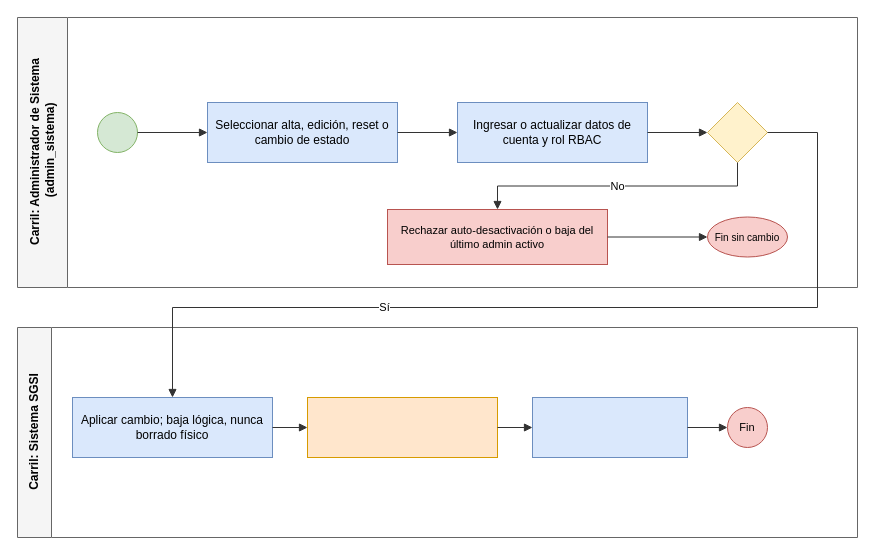
This 875x555 diagram has some shape labels left out. The shapes that lost their labels are listed below. From the top down, each one's centre as x and y in pixels, then its label:
point 117,132: Inicio
point 737,132: ¿Acción permitida?
point 402,427: Auditar quién, qué, cuándo y detalle
point 610,427: Confirmar resultado
